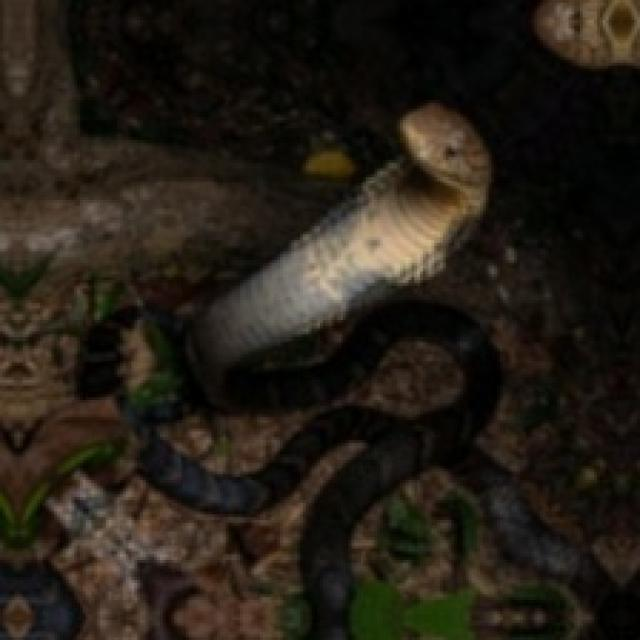king cobra: (143, 103, 497, 637)
